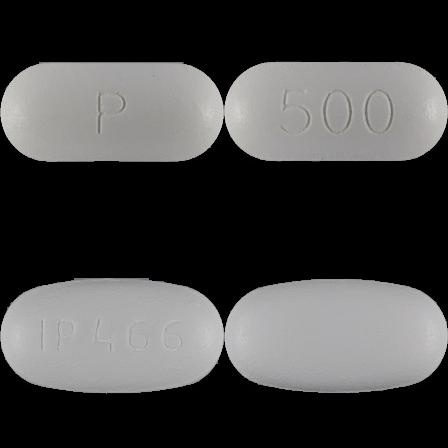10544-608: (0, 0, 224, 224)
